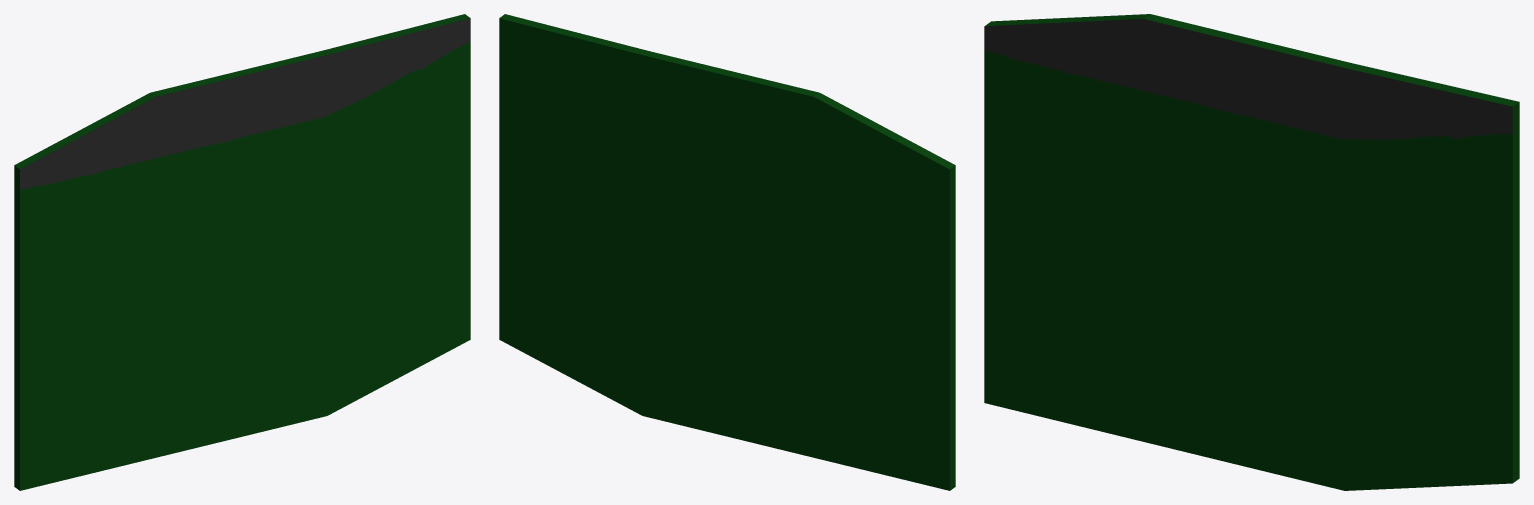
File: Trash_Compartiment.gltf
3 views of the same model, side by side, from view 1: azimuth 30°, elevation 25°; view 2: azimuth 150°, elevation 25°; view 3: azimuth 330°, elevation 25° (orthographic). The views are drawn at different scales.
Parts seen in each view (by area): view 1: Trash compartment; view 2: Trash compartment; view 3: Trash compartment.
Boxes of the visible parts, left/top/right/bottom form: Trash compartment: left=14, top=14, right=470, bottom=490; Trash compartment: left=499, top=14, right=955, bottom=490; Trash compartment: left=984, top=14, right=1519, bottom=490.
Size of the model in its own units: 2.43 by 1.87 by 0.0543.
Materials: 1 (1 with a texture image).
